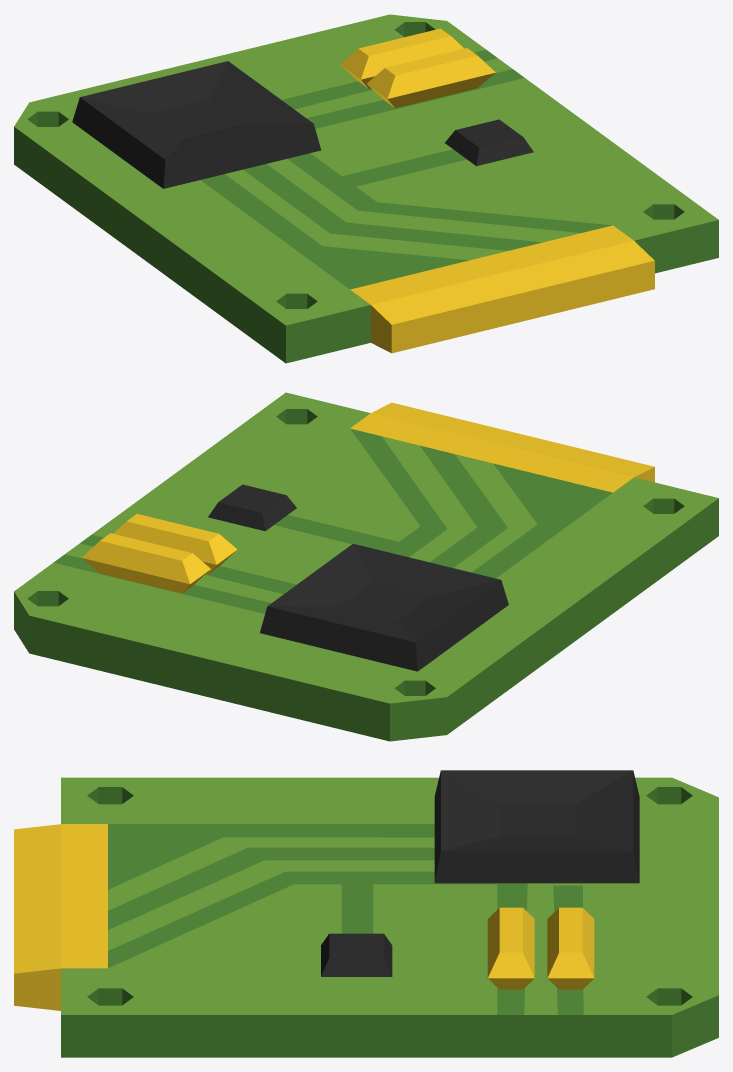
File: printed-circuit.glb
The picture shows the model from 3 angles, top to bottom: view 1: azimuth 30°, elevation 25°; view 2: azimuth 150°, elevation 25°; view 3: azimuth 270°, elevation 25°; orthographic projection. The views are drawn at different scales.
Parts seen in each view (by area): view 1: printed-circuit; view 2: printed-circuit; view 3: printed-circuit.
Part boxes in pixels (bbox=[...]): printed-circuit: bbox=[14, 14, 718, 363]; printed-circuit: bbox=[14, 392, 718, 741]; printed-circuit: bbox=[14, 770, 718, 1057].
Size of the model in its own units: 0.1196 by 0.0187 by 0.15.
1 material, 1 textured.
